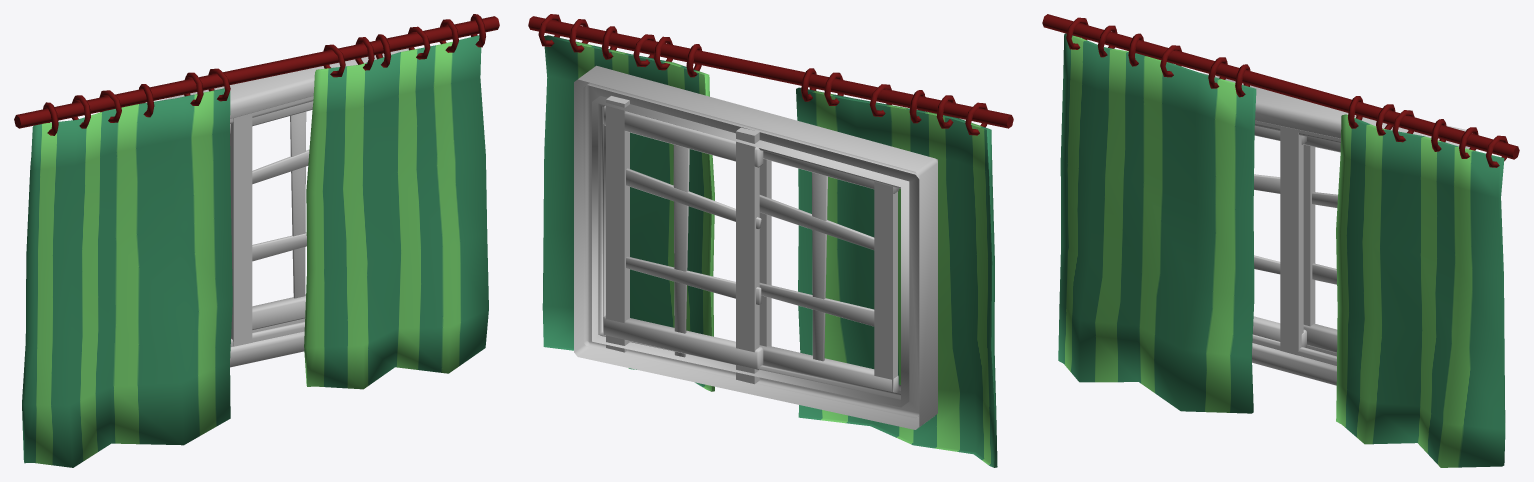
The model's file is Ventana_cerrada.FBX.
3 renders of one model, left to right at view 1: azimuth 30°, elevation 25°; view 2: azimuth 150°, elevation 25°; view 3: azimuth 330°, elevation 25°, orthographic.
Visible parts, largest first — view 1: ventana_cerrada; view 2: ventana_cerrada; view 3: ventana_cerrada.
Part boxes in pixels (x1,y1,x2,y2): ventana_cerrada: (14, 14, 499, 467); ventana_cerrada: (528, 14, 1013, 467); ventana_cerrada: (1042, 14, 1519, 467).
Bounding box in the file's own units: 6.98 × 5.04 × 1.1.
